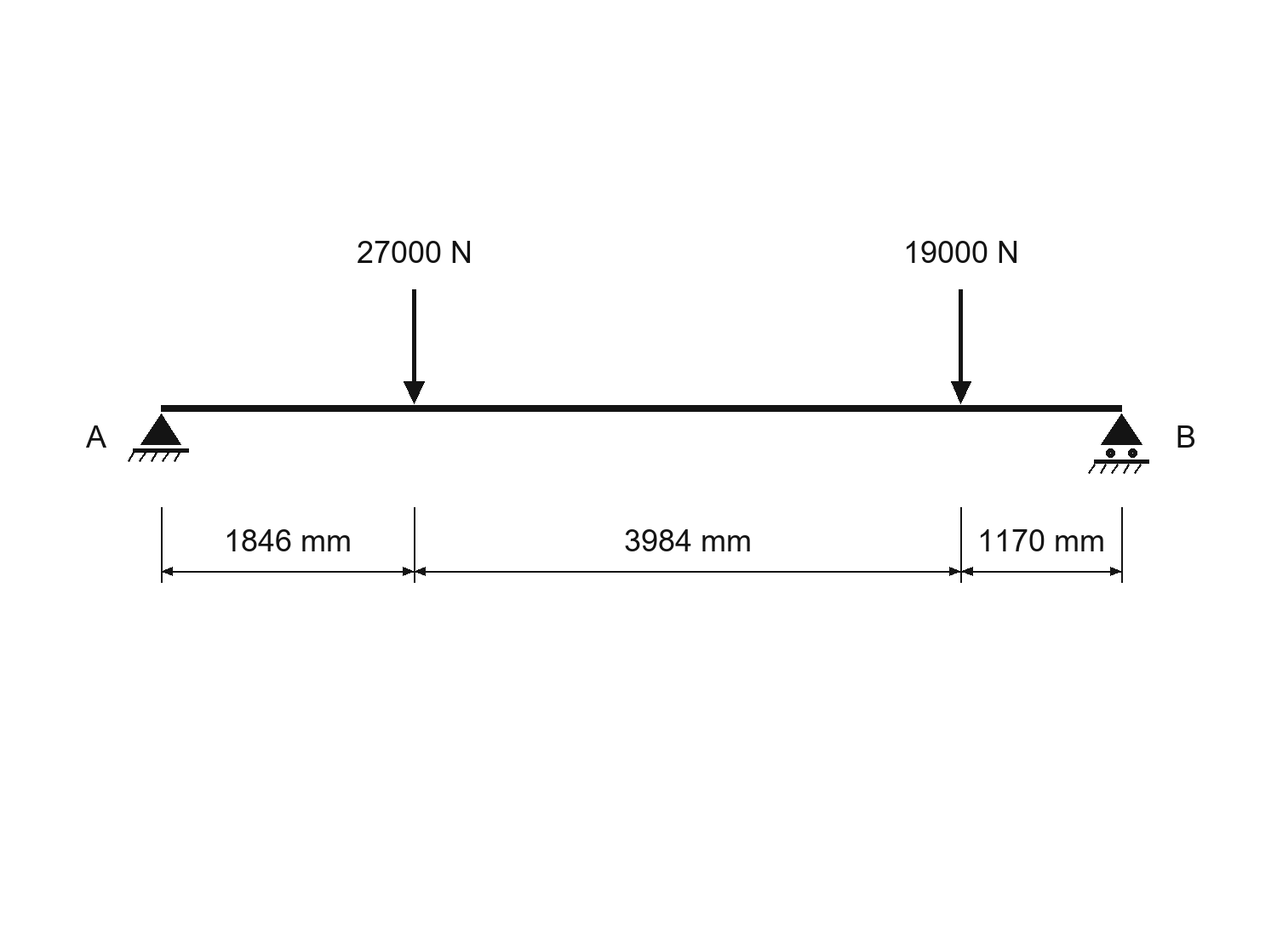pin_support: (128, 414, 189, 462)
point_load: (404, 289, 425, 404), (951, 289, 971, 404)
roller_support: (1088, 414, 1149, 474)
